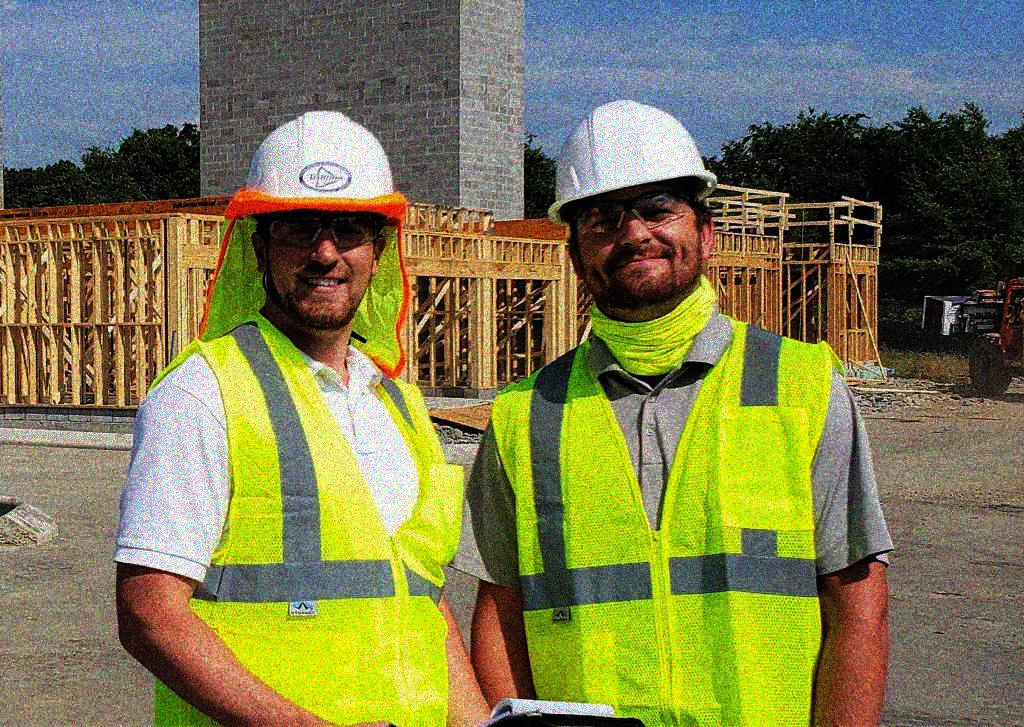helmet: (243, 103, 406, 335), (548, 97, 720, 304)
